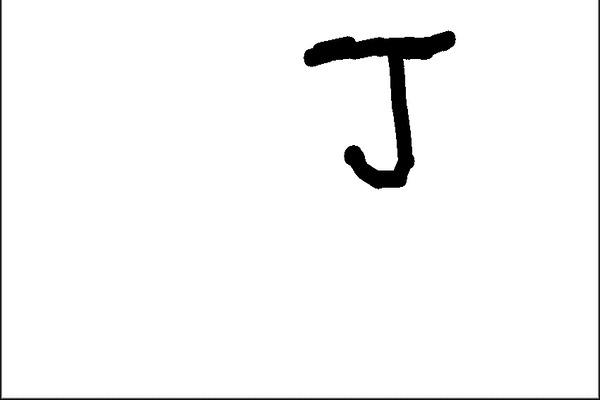J: (298, 23, 462, 197)
